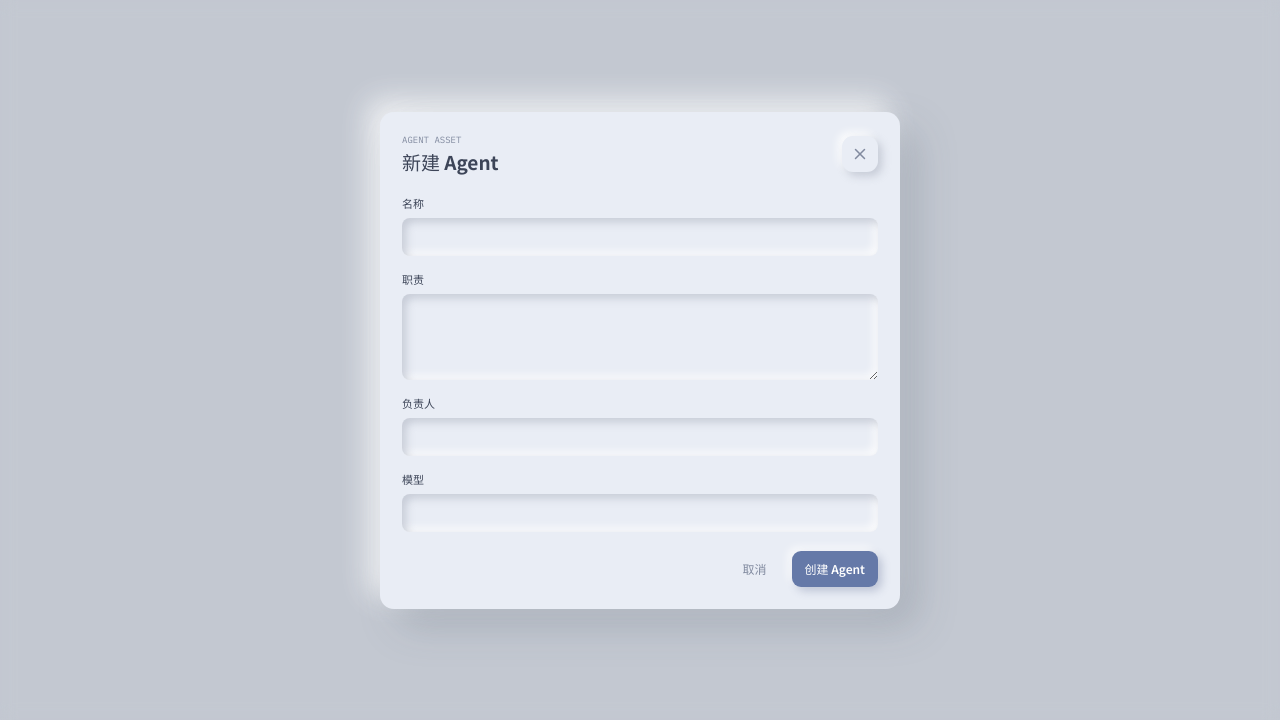
Test case: AgentCreateDialog › keeps the dialog open and shows a server error
The image size is (1280, 720).
Type "用户洞察 Agent" into the field labelled "名称" at point(640, 236), box x1=402 y1=218 x2=878 y2=256
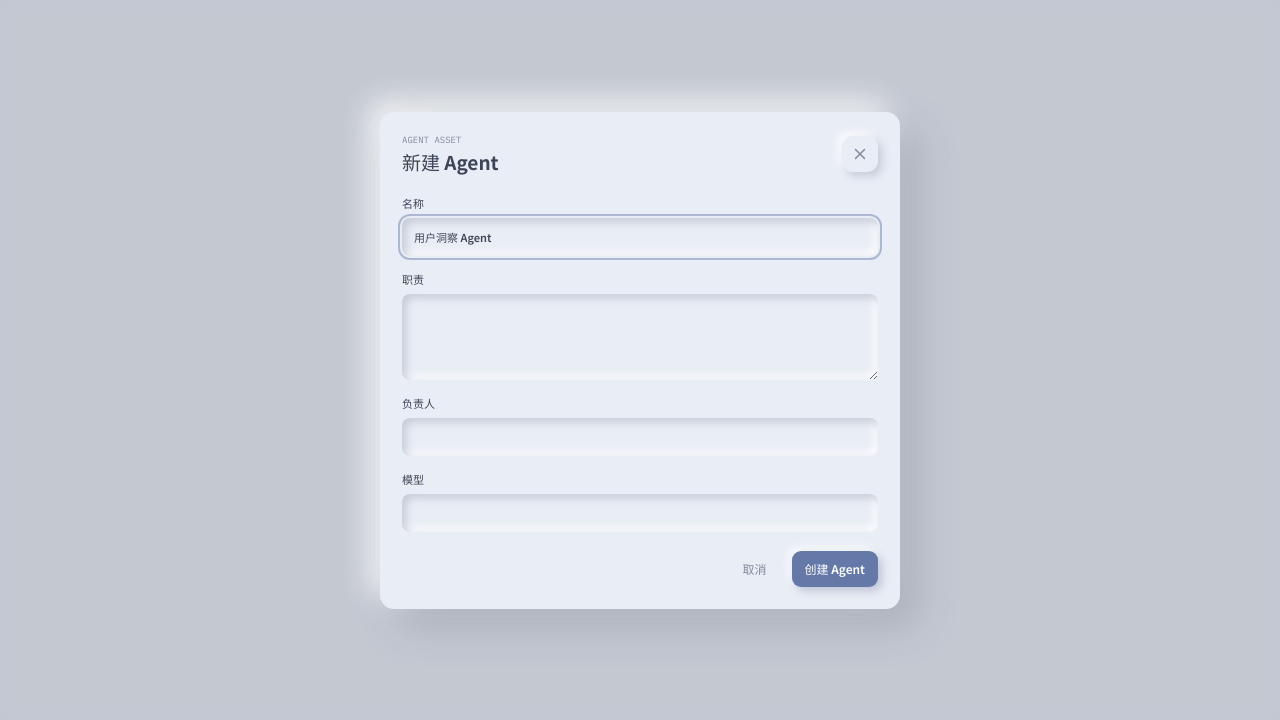
Type "汇总访谈并提炼用户需求" into the text box labelled "职责" at point(640, 336), box x1=402 y1=294 x2=878 y2=380
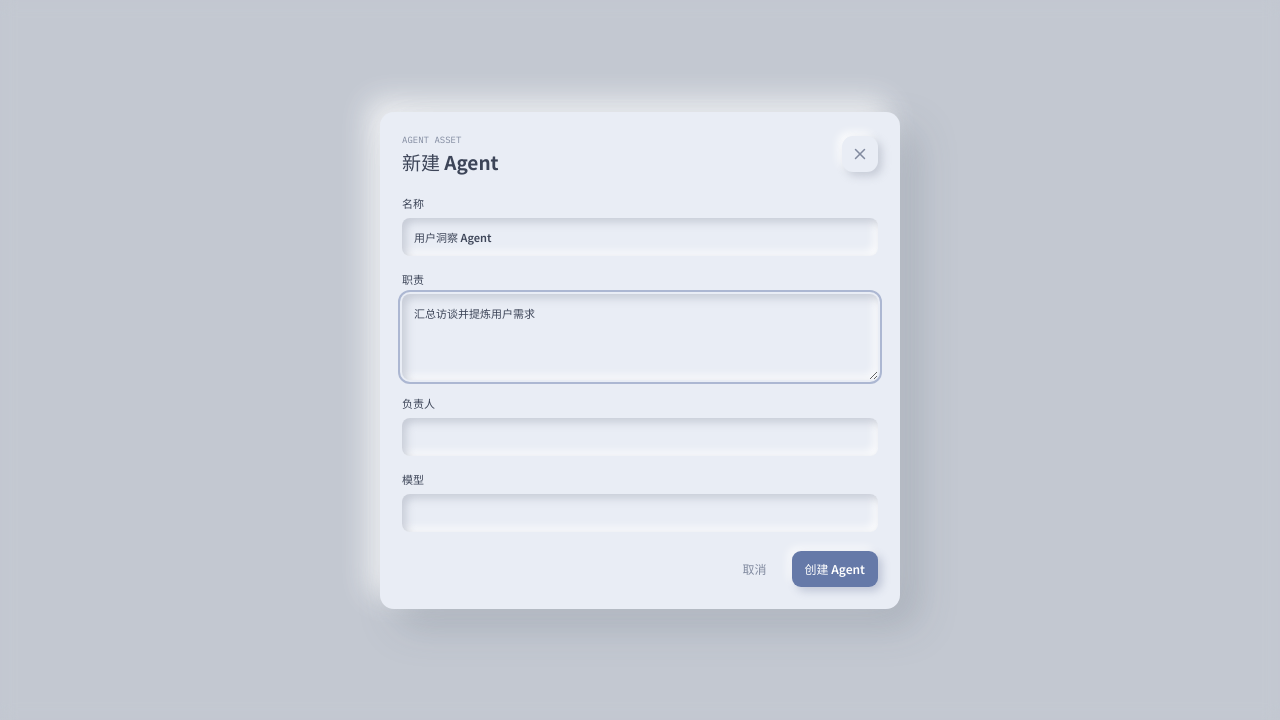
Type "产品创新组" into the field labelled "负责人" at point(640, 436), box x1=402 y1=418 x2=878 y2=456
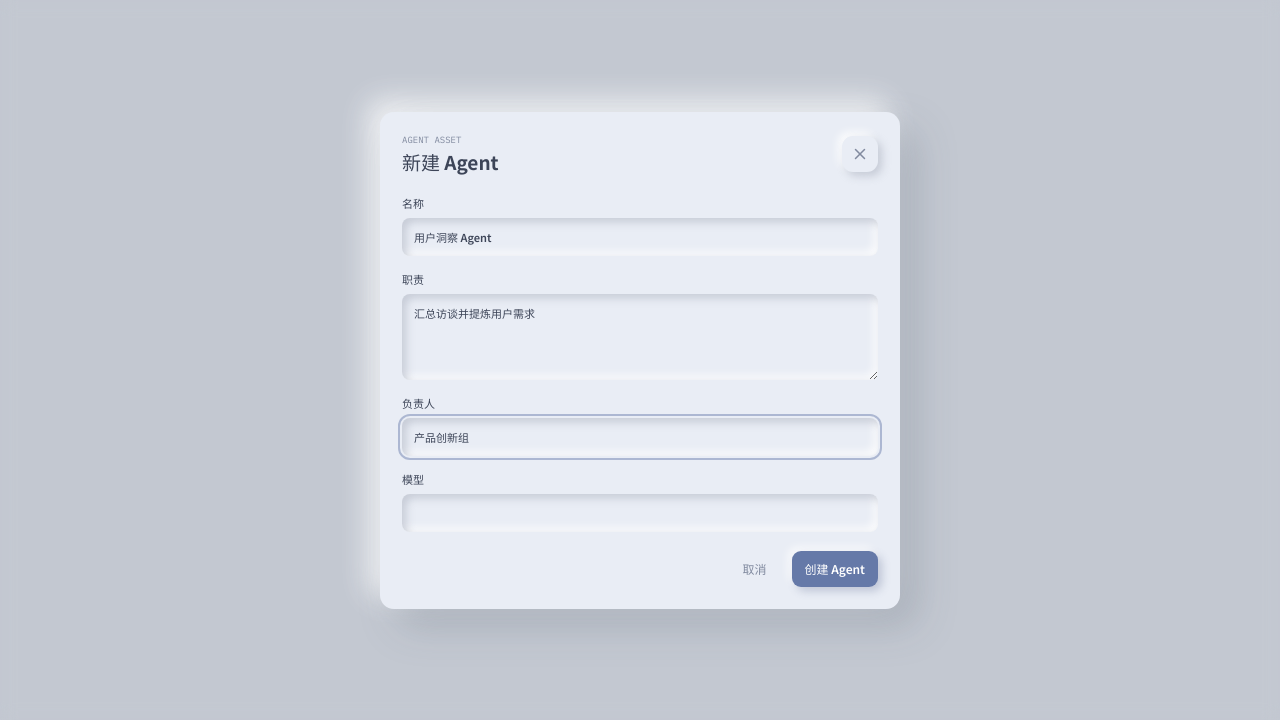
Type "GPT-5" into the field labelled "模型" at point(640, 512), box x1=402 y1=494 x2=878 y2=532
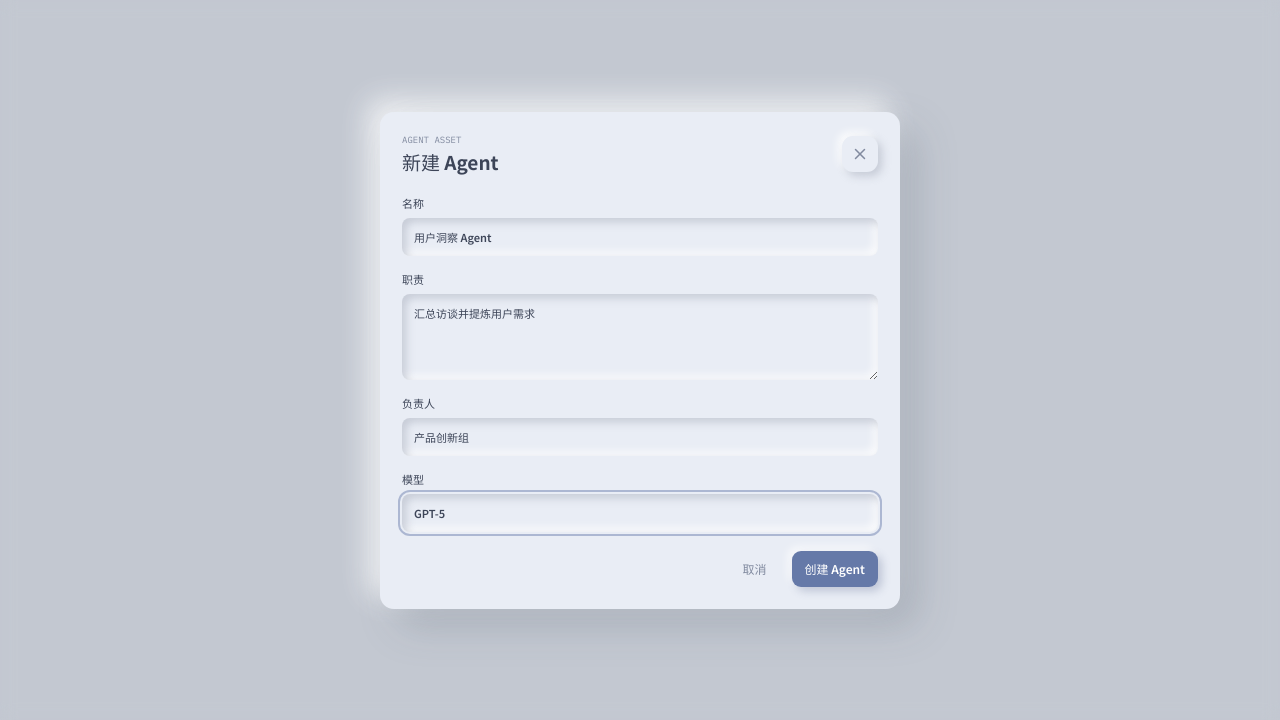
Click the button "创建 Agent" at point(835, 568), box x1=792 y1=550 x2=878 y2=586
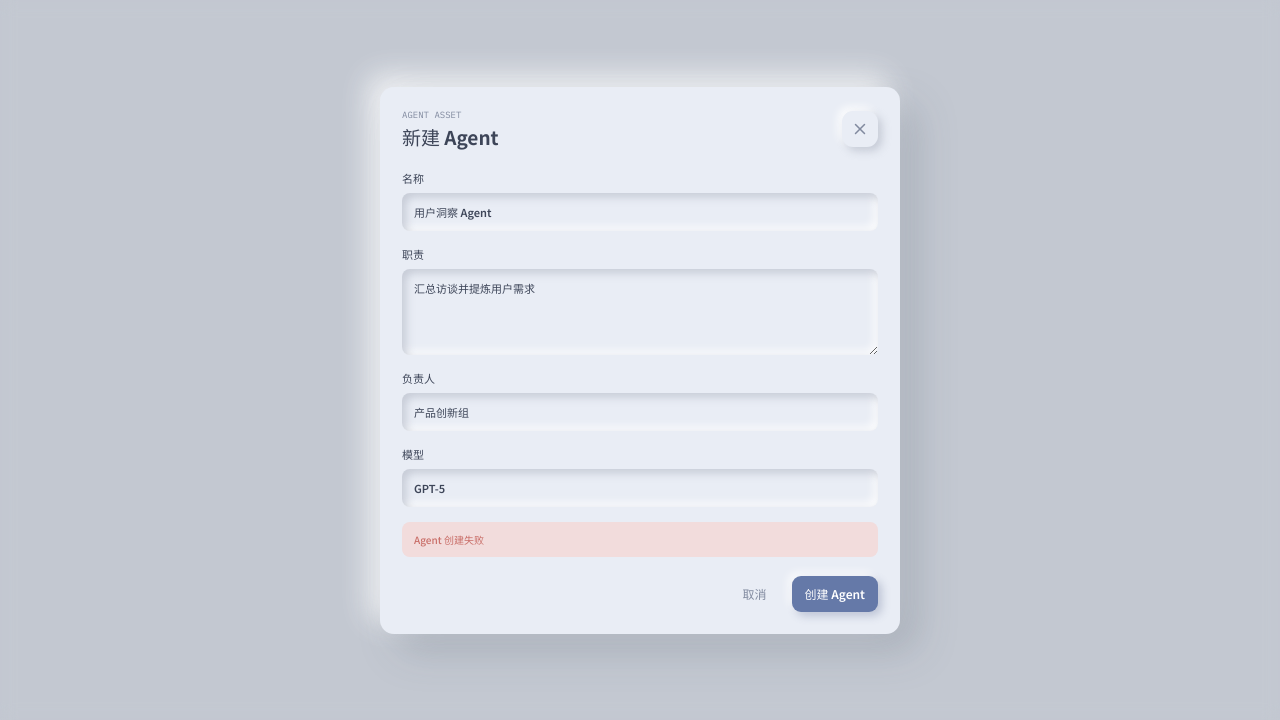
Expected: the dialog is shown, x1=380 y1=86 x2=900 y2=634
Result: the message reads "Agent 创建失败" at x1=414 y1=532 x2=484 y2=546
